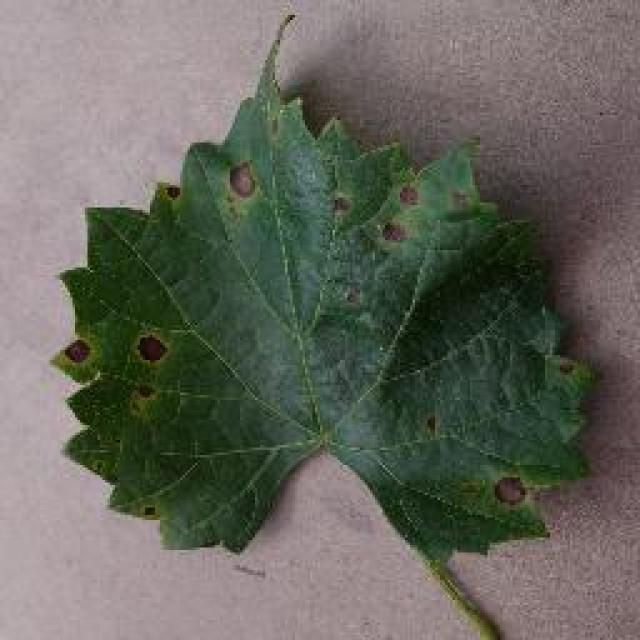Grape___Black_rot: (42, 7, 609, 567)
